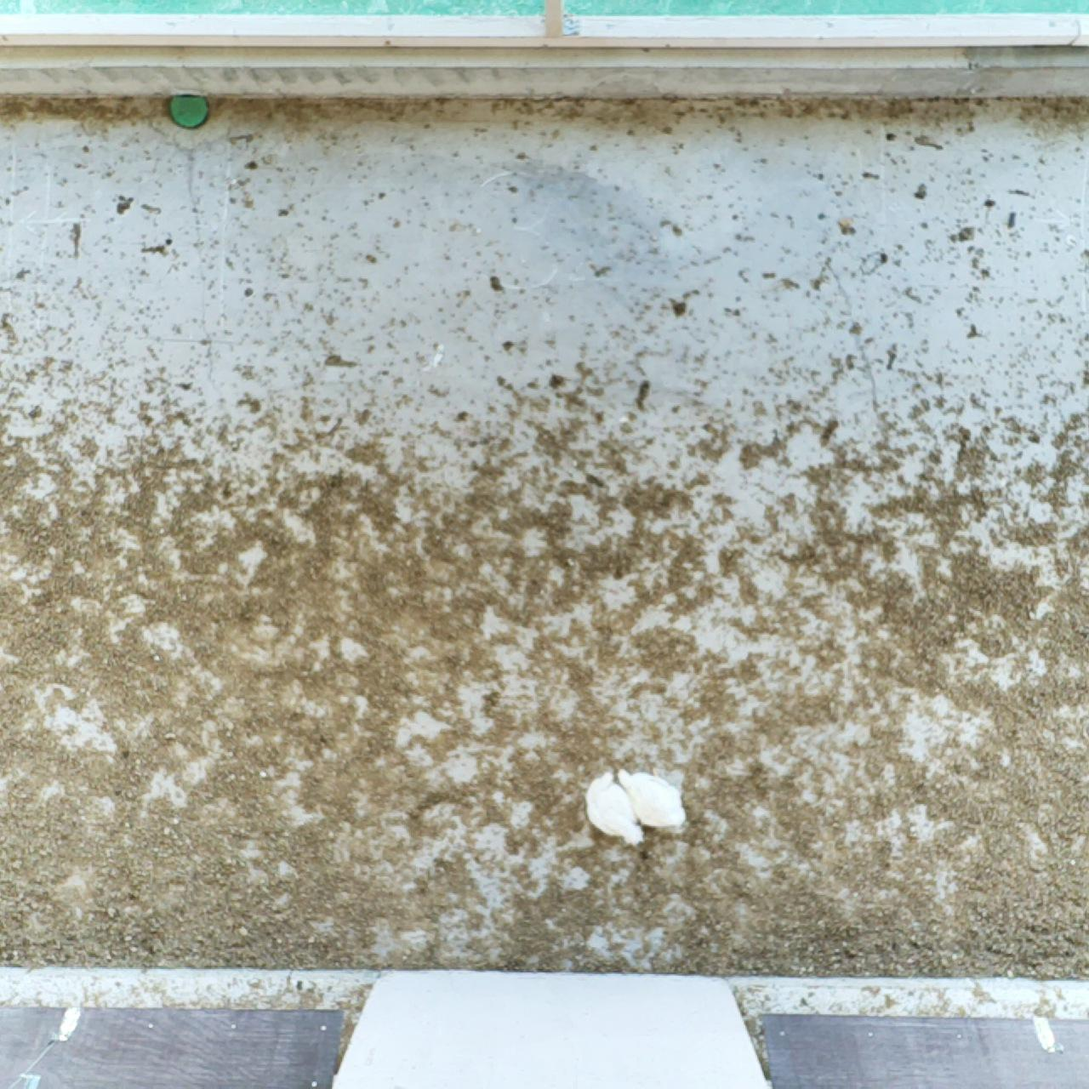chicken: (581, 774, 644, 850), (618, 767, 687, 832)
